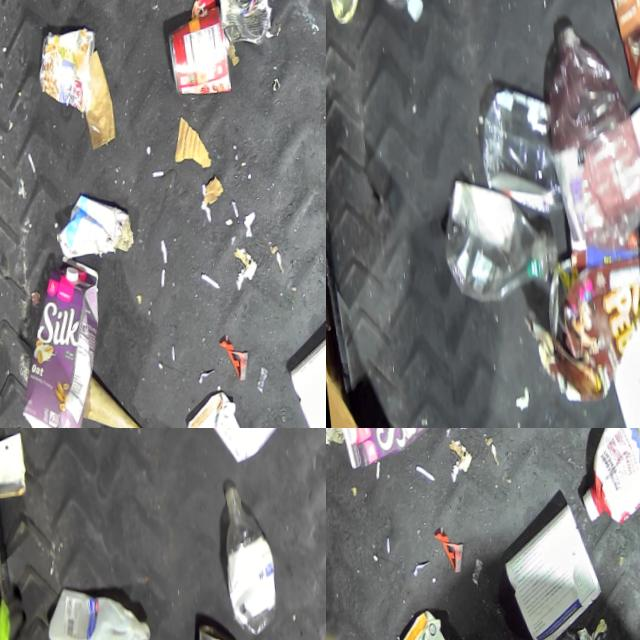can: (165, 10, 232, 109), (34, 27, 102, 123), (214, 0, 275, 58), (186, 618, 241, 640), (326, 0, 363, 29)
milk_jug: (37, 571, 151, 640)
non_white_jug: (3, 249, 114, 428), (568, 428, 640, 539), (326, 428, 466, 474), (594, 0, 640, 105), (180, 393, 260, 428), (388, 605, 468, 640)
plastic_bottle: (344, 0, 425, 35)
